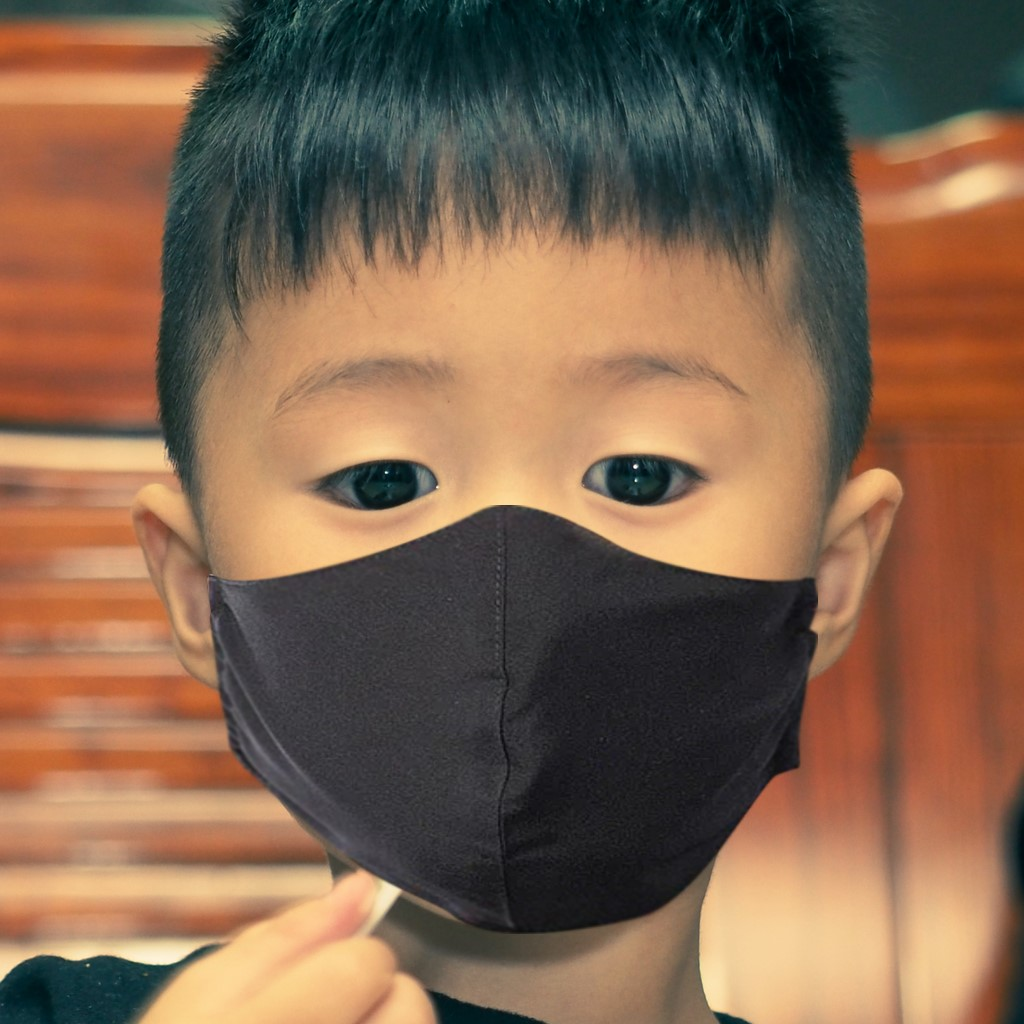con_mascara: (193, 164, 849, 935)
